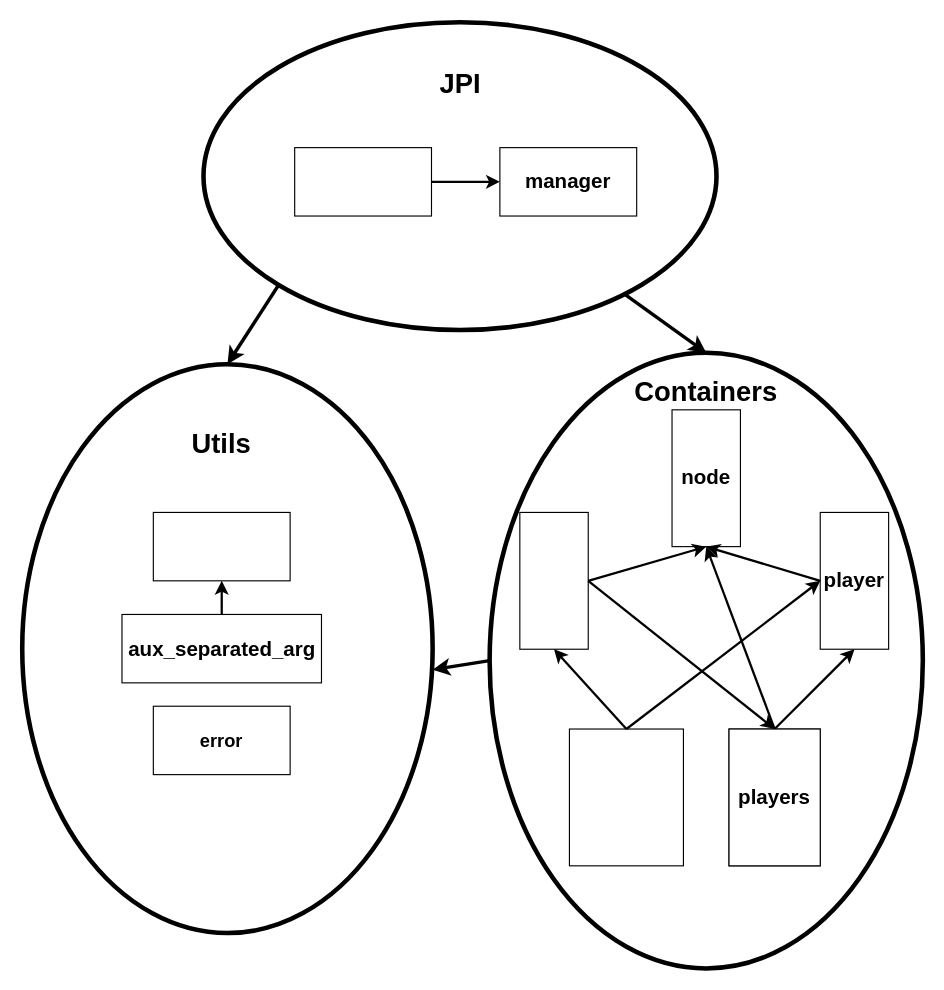
Image size: 944x990. Some labels were removed from this diagram. The shapes that lost their labels are listed below. From the top down, each one's centre as x and y in pixels, then its label:
[362,181]: init
[221,546]: aux_matrix
[553,580]: board
[625,797]: bfs (algorithm)
